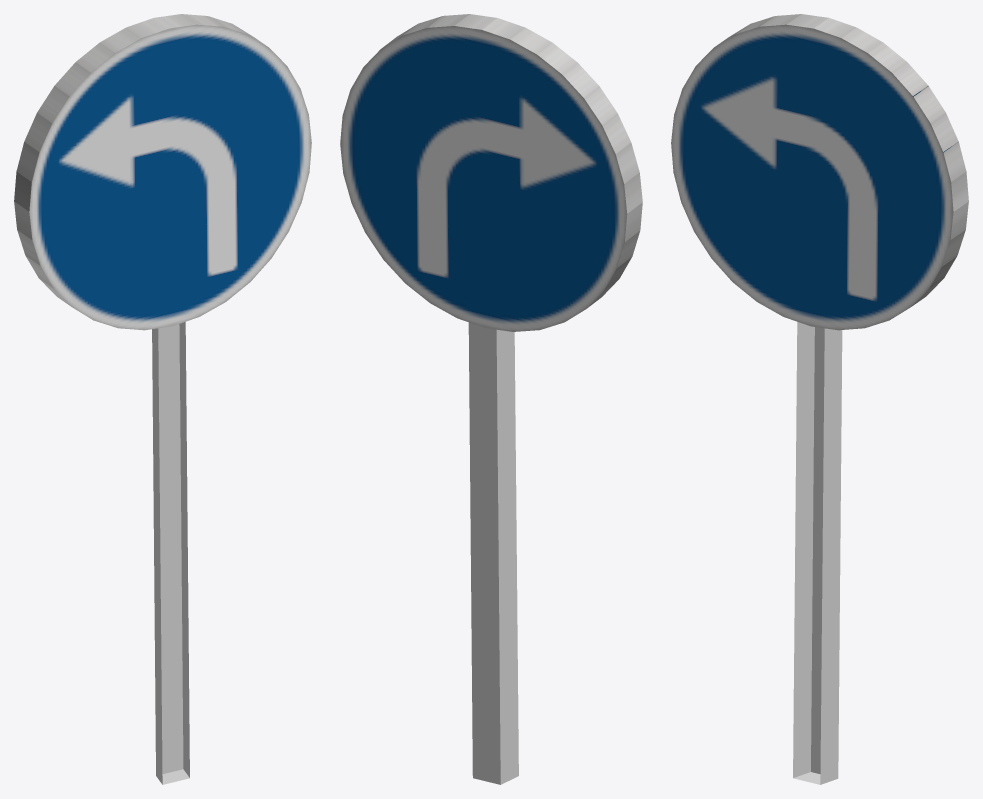
File: left.dae
3 views of the same model, side by side, from view 1: azimuth 30°, elevation 25°; view 2: azimuth 150°, elevation 25°; view 3: azimuth 330°, elevation 25° (orthographic).
Parts seen in each view (by area): view 1: Cycle, Xui; view 2: Cycle, Xui; view 3: Cycle, Xui.
Boxes of the visible parts, x1,y1,x2,y2 form: Cycle: [14, 14, 311, 330]; Xui: [152, 322, 189, 784]; Cycle: [340, 14, 642, 331]; Xui: [468, 322, 518, 784]; Cycle: [671, 14, 968, 330]; Xui: [793, 322, 842, 784].
Size of the model in its own units: 0.2554 by 0.0352 by 0.6471.
Materials: 1 (1 with a texture image).
